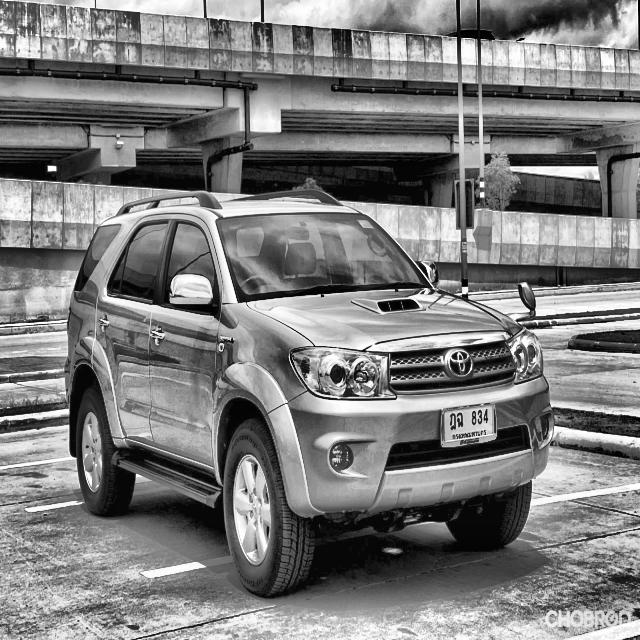license-plate: (435, 398, 500, 452)
